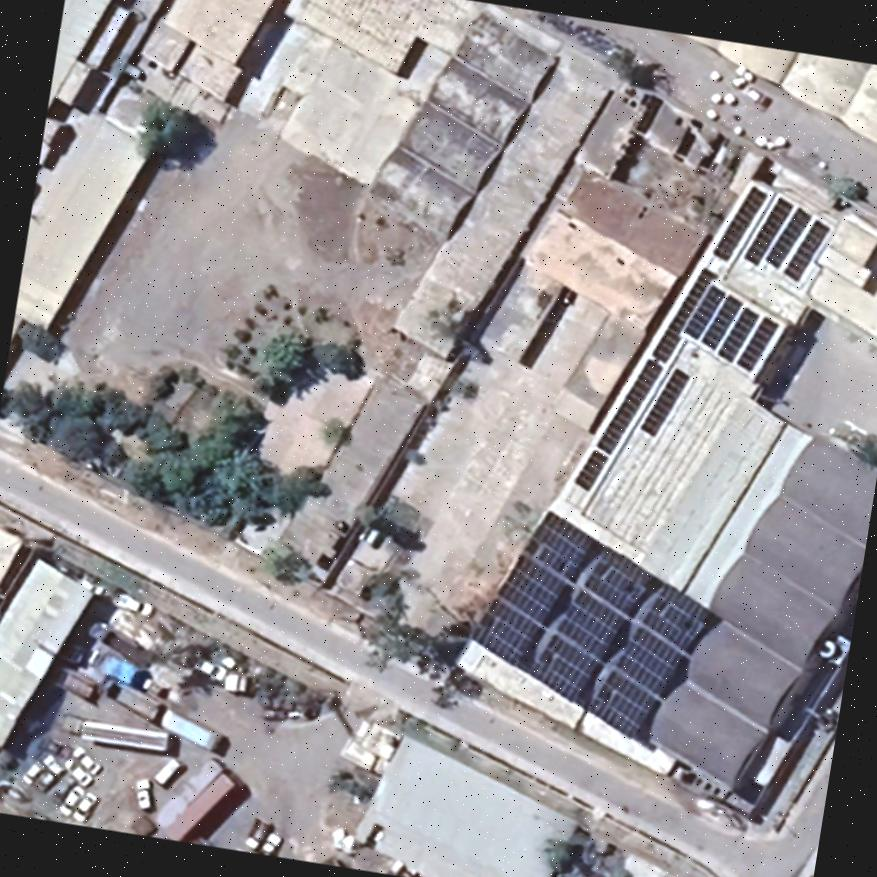Solarpanel: (465, 498, 728, 752), (567, 261, 792, 514), (709, 174, 837, 293)
